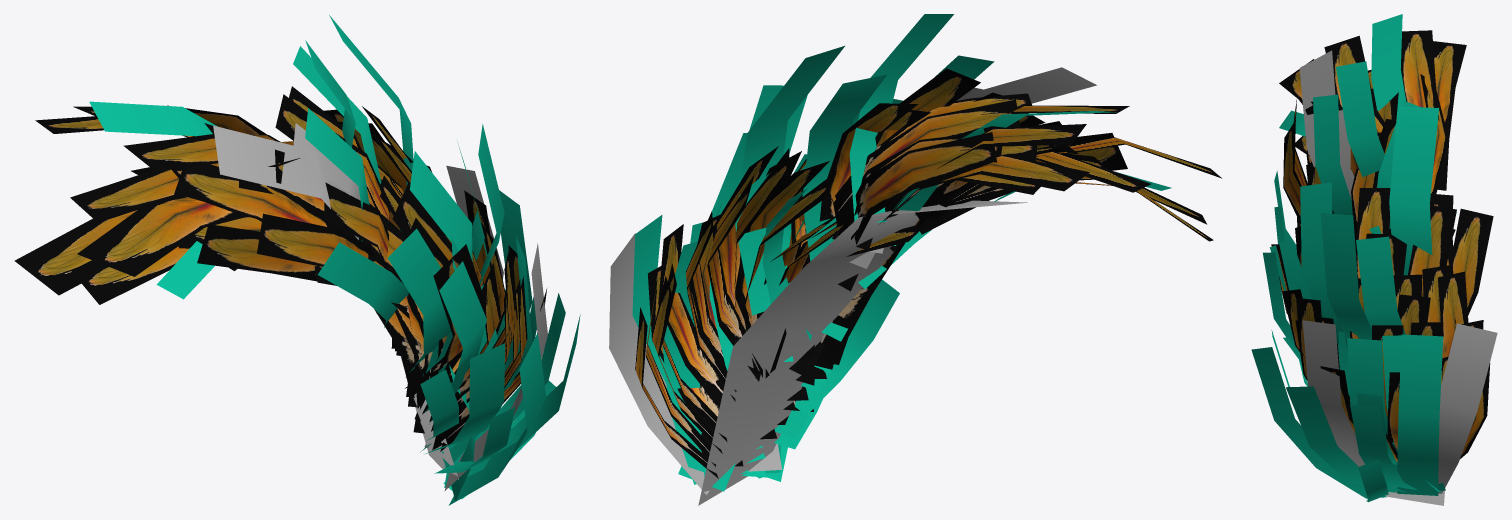
File: feather_Harimodel02.fbx
3 renders of one model, left to right at view 1: azimuth 30°, elevation 25°; view 2: azimuth 150°, elevation 25°; view 3: azimuth 270°, elevation 25°, orthographic. The views are drawn at different scales.
Parts seen in each view (by area): view 1: polySurface115; view 2: polySurface115; view 3: polySurface115.
Boxes of the visible parts, x1,y1,x2,y2 form: polySurface115: (14,15,580,505); polySurface115: (609,14,1221,505); polySurface115: (1251,14,1497,505).
Bounding box in the file's own units: 414 × 361 × 210.
